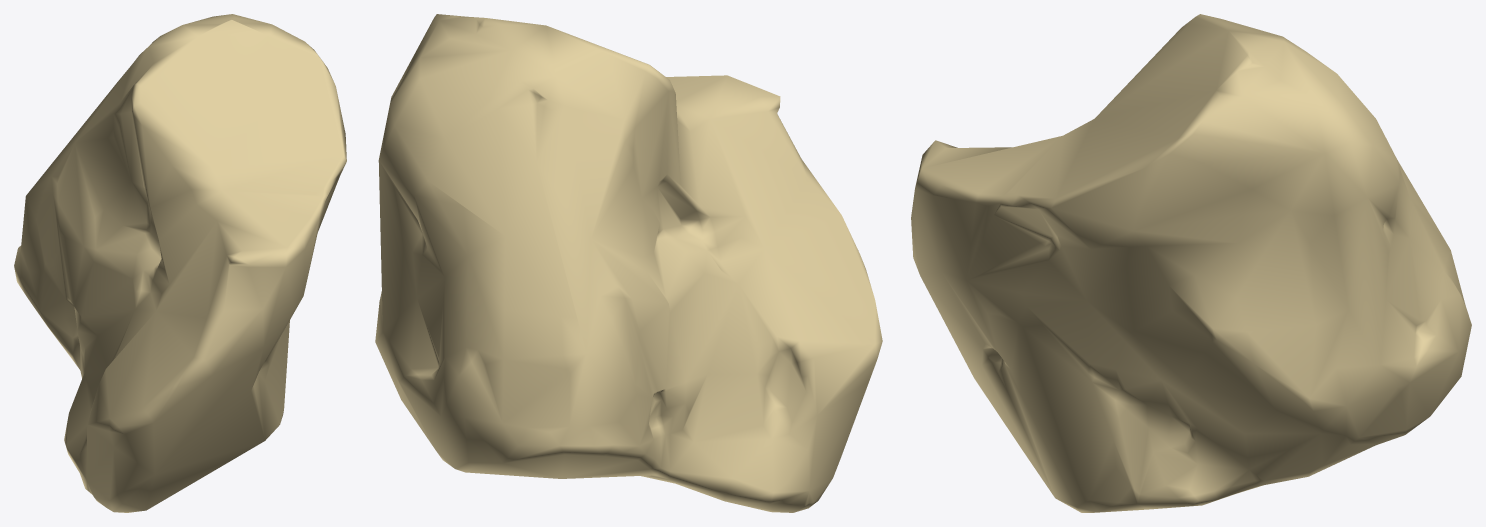
3 renders of one model, left to right at view 1: azimuth 30°, elevation 25°; view 2: azimuth 150°, elevation 25°; view 3: azimuth 270°, elevation 25°, orthographic. The views are drawn at different scales.
Parts seen in each view (by area): view 1: 右侧内侧楔骨; view 2: 右侧内侧楔骨; view 3: 右侧内侧楔骨.
Boxes of the visible parts, x1,y1,x2,y2 form: 右侧内侧楔骨: [14, 14, 346, 512]; 右侧内侧楔骨: [375, 14, 882, 512]; 右侧内侧楔骨: [911, 14, 1471, 512].
Bounding box in the file's own units: 0.037 × 0.0486 × 0.0476.
